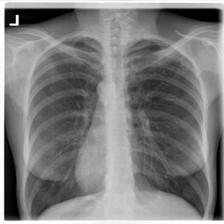tuberculosis: (20, 32, 215, 220)
